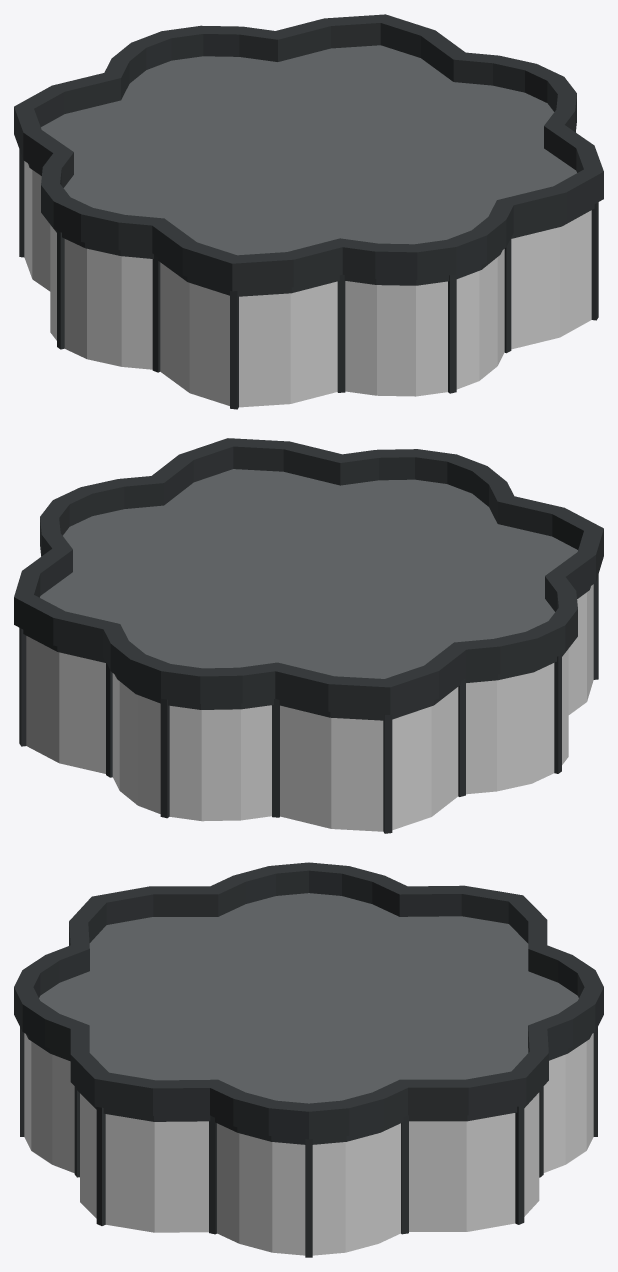
Rendered from SM_Bldg_City_High-Rise_Modern_01_Roof.fbx.
3 views of the same model, one above another, from view 1: azimuth 30°, elevation 25°; view 2: azimuth 150°, elevation 25°; view 3: azimuth 270°, elevation 25° (orthographic).
Parts seen in each view (by area): view 1: SM_Bldg_City_High-Rise_Modern_01_Roof; view 2: SM_Bldg_City_High-Rise_Modern_01_Roof; view 3: SM_Bldg_City_High-Rise_Modern_01_Roof.
Part boxes in pixels (bbox=[...]): SM_Bldg_City_High-Rise_Modern_01_Roof: bbox=[14, 14, 603, 409]; SM_Bldg_City_High-Rise_Modern_01_Roof: bbox=[14, 438, 603, 833]; SM_Bldg_City_High-Rise_Modern_01_Roof: bbox=[14, 862, 603, 1257].
Bounding box in the file's own units: 1551 × 430 × 1551.
